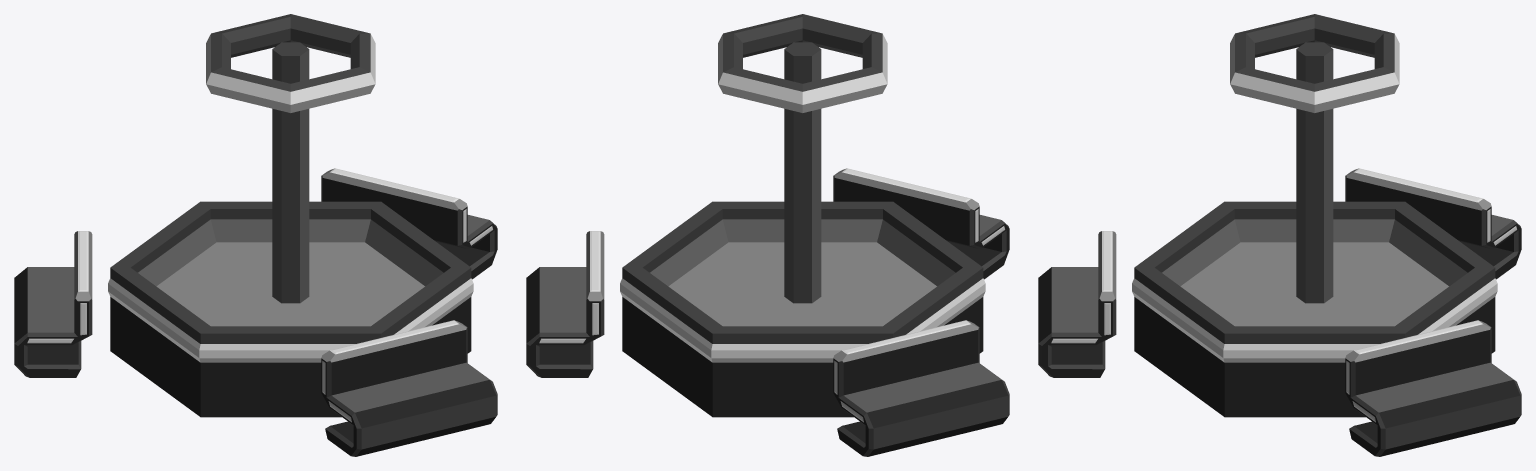
The model's file is Fountain.fbx.
The picture shows the model from 3 angles, left to right: view 1: azimuth 30°, elevation 25°; view 2: azimuth 150°, elevation 25°; view 3: azimuth 270°, elevation 25°; orthographic projection.
Parts seen in each view (by area): view 1: Fountain, Bench; view 2: Fountain, Bench; view 3: Fountain, Bench.
Part boxes in pixels (left/top/right/bottom): Fountain: left=108, top=14, right=473, bottom=417; Bench: left=14, top=168, right=497, bottom=456; Fountain: left=620, top=14, right=985, bottom=417; Bench: left=526, top=168, right=1009, bottom=456; Fountain: left=1132, top=14, right=1497, bottom=417; Bench: left=1038, top=168, right=1521, bottom=456.
Size of the model in its own units: 74.03 by 44.27 by 64.26.
